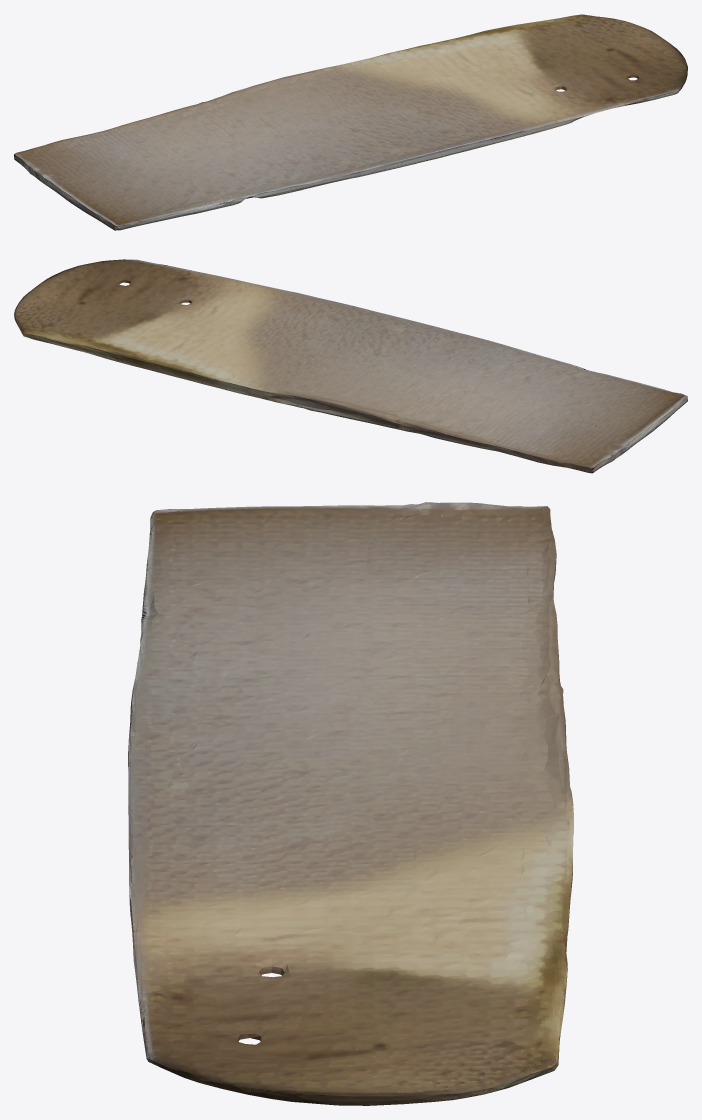
The model's file is ast_55d33aa2ab71.glb.
3 views of the same model, one above another, from view 1: azimuth 30°, elevation 25°; view 2: azimuth 150°, elevation 25°; view 3: azimuth 270°, elevation 25° (orthographic). The views are drawn at different scales.
Visible parts, largest first — view 1: geometry_0; view 2: geometry_0; view 3: geometry_0.
Part boxes in pixels (bbox=[...]): geometry_0: bbox=[14, 14, 687, 230]; geometry_0: bbox=[14, 259, 687, 473]; geometry_0: bbox=[128, 502, 573, 1105].
Size of the model in its own units: 1 by 0.0208 by 0.3188.
1 material, 1 textured.
